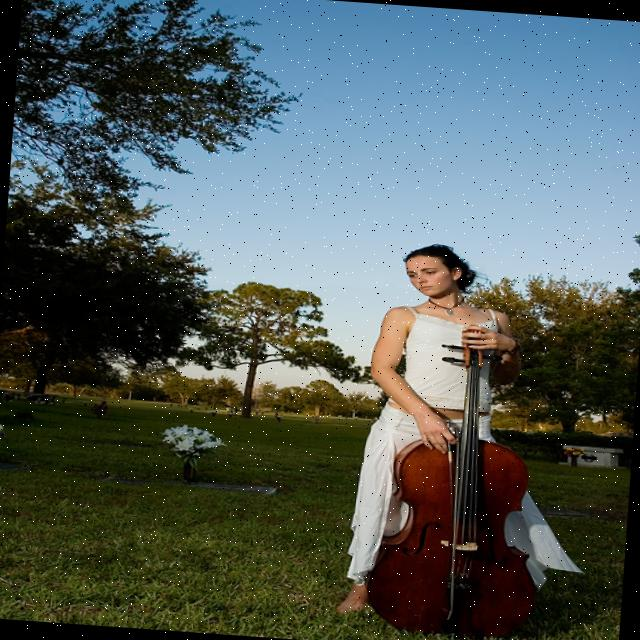cello: (358, 318, 561, 640)
